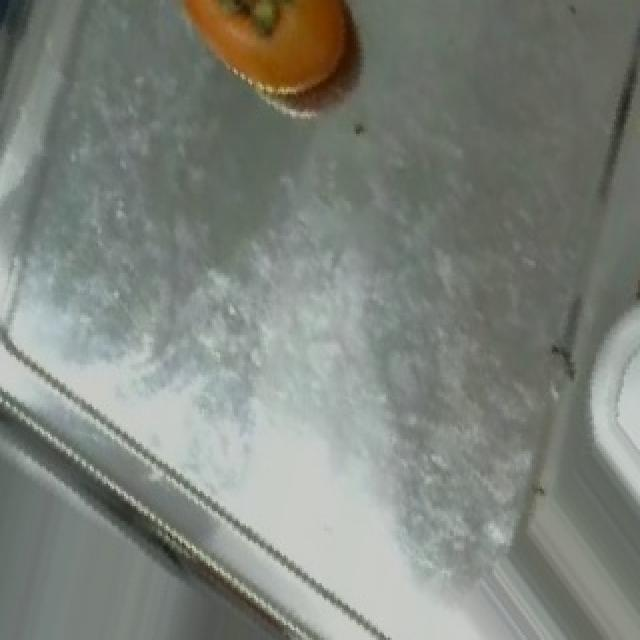Fruit: (146, 0, 378, 131), (592, 308, 640, 538)
